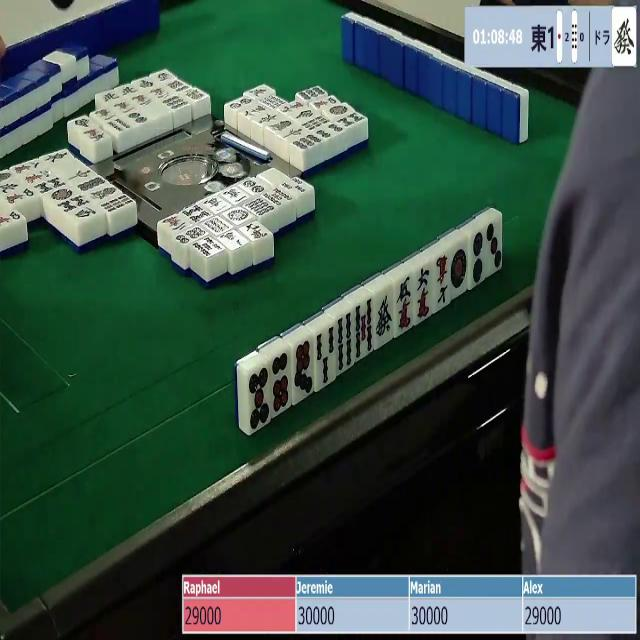fa: (614, 10, 636, 64), (376, 290, 395, 346)
m5: (394, 275, 415, 335)
m6: (415, 264, 434, 322)
m7: (432, 253, 451, 311)
s3: (313, 327, 335, 389)
s4: (335, 314, 355, 374)
s5: (352, 300, 374, 361)
s8: (180, 204, 212, 224)
t1: (450, 243, 470, 299), (222, 206, 253, 225)
t2: (468, 230, 486, 290)
t3: (486, 218, 502, 273)
t5: (247, 366, 273, 434)
t6: (269, 351, 294, 417)
t7: (290, 337, 315, 401)
